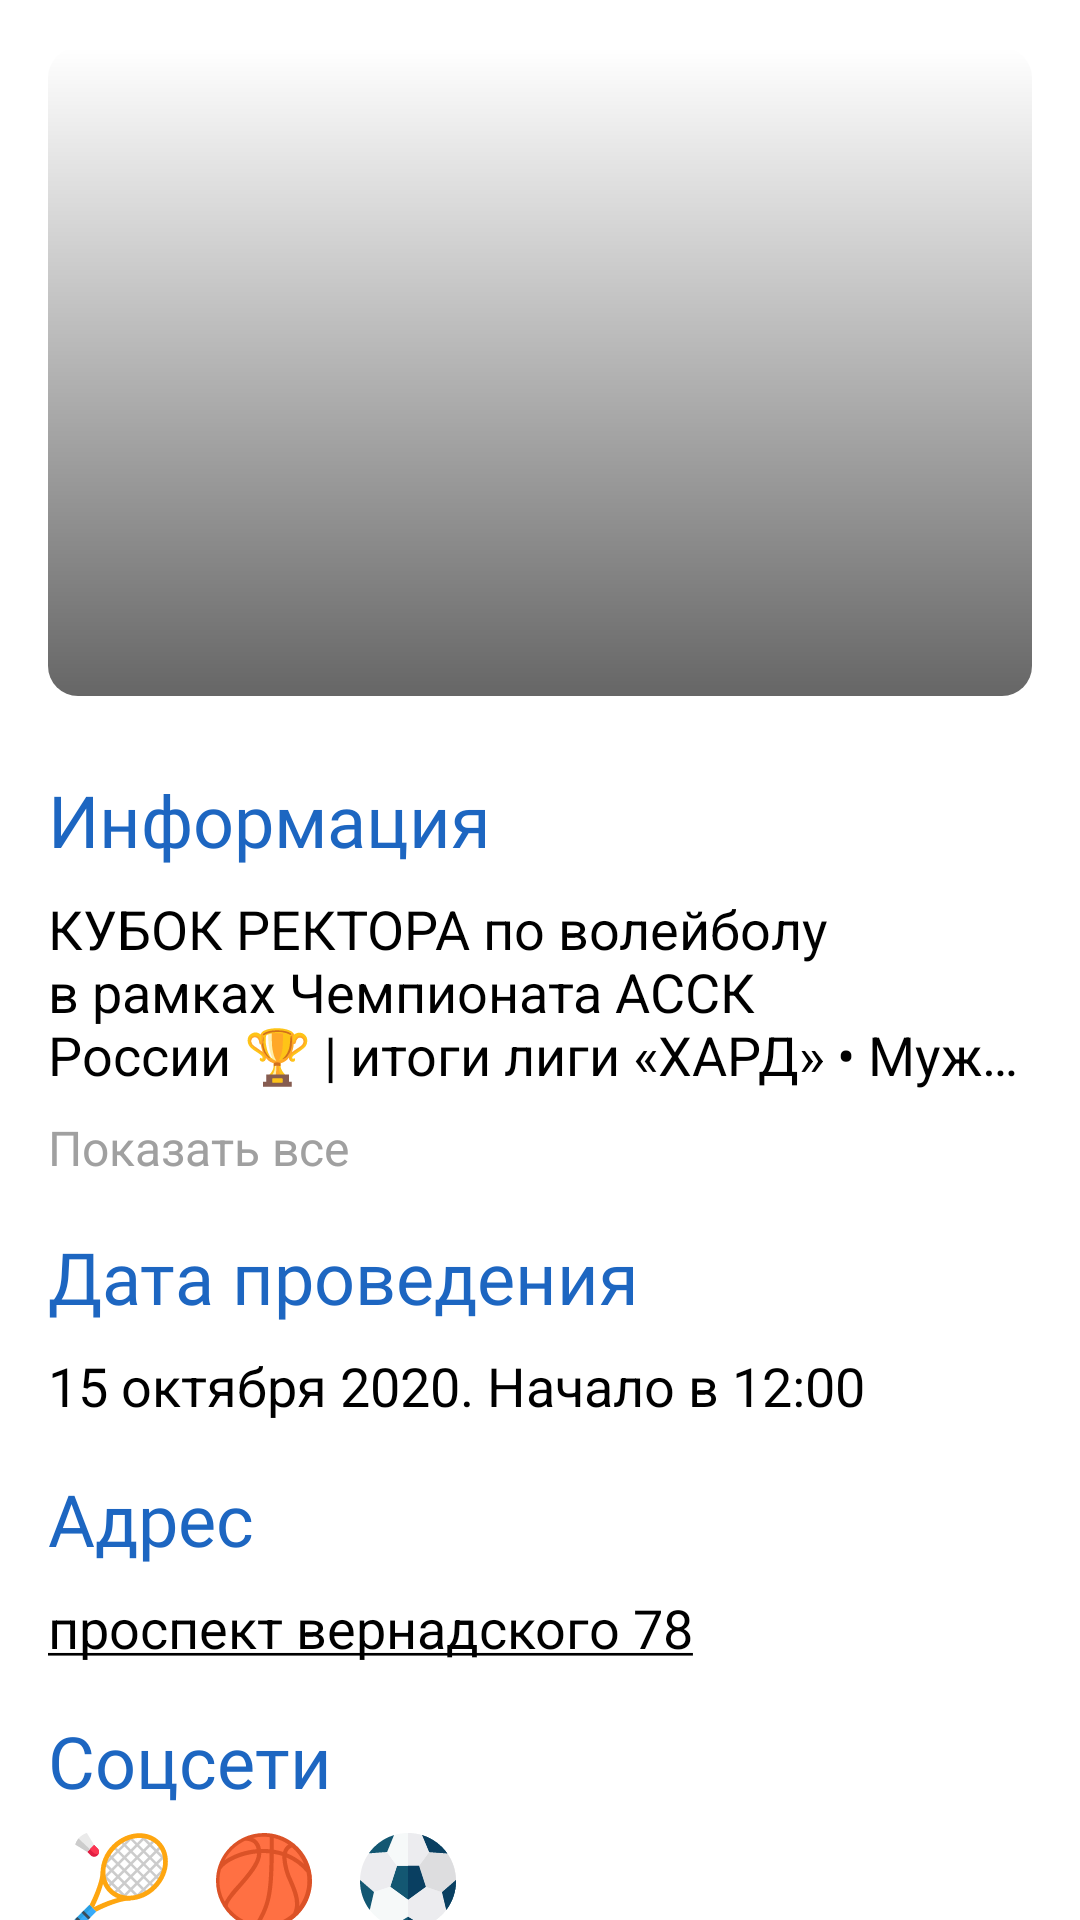

Screen size 1080*1920. Icon name, then its center in pixels as (x=x, y=y):
badminton: (x=121, y=1876)
basketball: (x=264, y=1876)
football: (x=408, y=1876)
